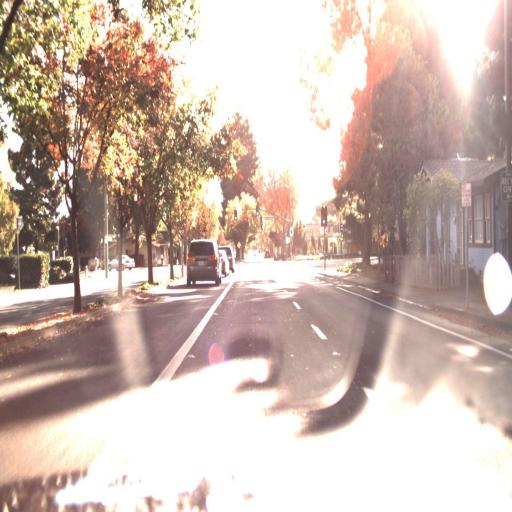car: (184, 233, 221, 285), (102, 251, 136, 274), (106, 254, 135, 273), (215, 246, 230, 282), (221, 245, 230, 279), (230, 244, 238, 274)
trafficLight: (320, 206, 327, 228)
trafficLight-Green: (320, 209, 328, 228), (254, 201, 261, 220), (233, 208, 240, 226), (252, 205, 260, 220)
trafficLight-GreenLeft: (233, 209, 241, 223)
